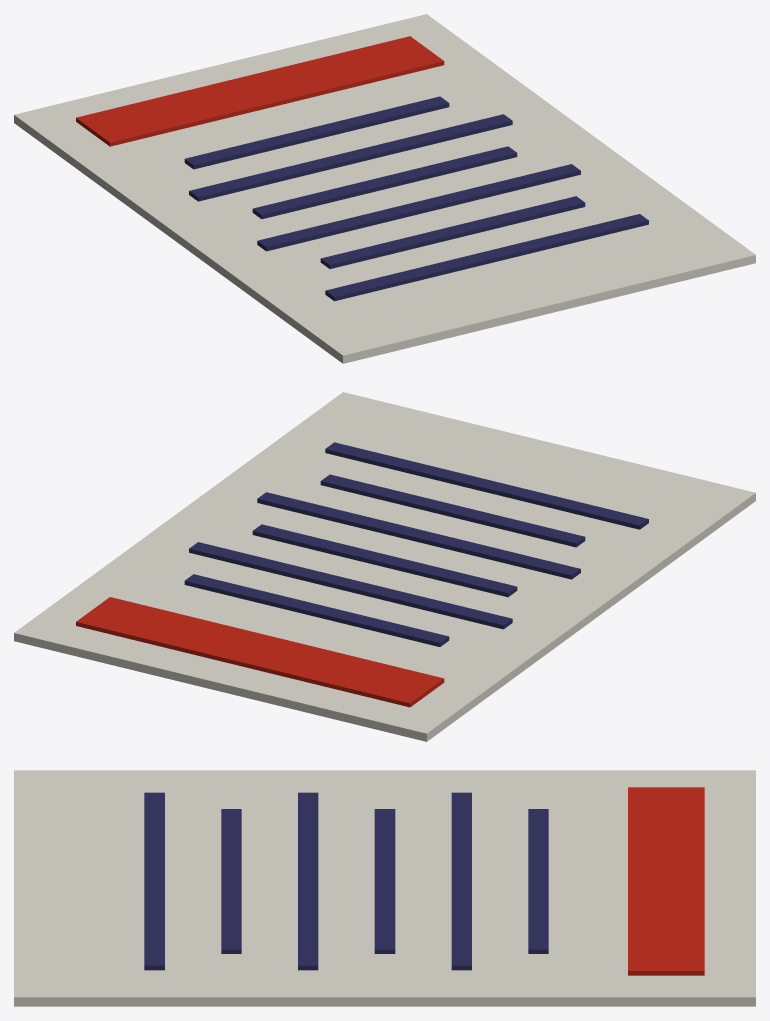
The model's file is special_clients_list.glb.
The picture shows the model from 3 angles, top to bottom: view 1: azimuth 30°, elevation 25°; view 2: azimuth 150°, elevation 25°; view 3: azimuth 270°, elevation 25°; orthographic projection. The views are drawn at different scales.
Visible parts, largest first — view 1: sheet_list_sheet, lines_list_ink (×6), heading_list_red; view 2: sheet_list_sheet, lines_list_ink (×6), heading_list_red; view 3: sheet_list_sheet, lines_list_ink (×6), heading_list_red.
Part boxes in pixels (bbox=[...]): sheet_list_sheet: bbox=[14, 14, 755, 363]; lines_list_ink (×6): bbox=[184, 96, 648, 301]; heading_list_red: bbox=[76, 36, 444, 146]; sheet_list_sheet: bbox=[14, 392, 755, 741]; lines_list_ink (×6): bbox=[184, 442, 648, 646]; heading_list_red: bbox=[76, 597, 444, 707]; sheet_list_sheet: bbox=[14, 770, 755, 1006]; lines_list_ink (×6): bbox=[144, 792, 548, 970]; heading_list_red: bbox=[628, 787, 704, 975].
Size of the model in its own units: 0.21 by 0.006 by 0.29.
